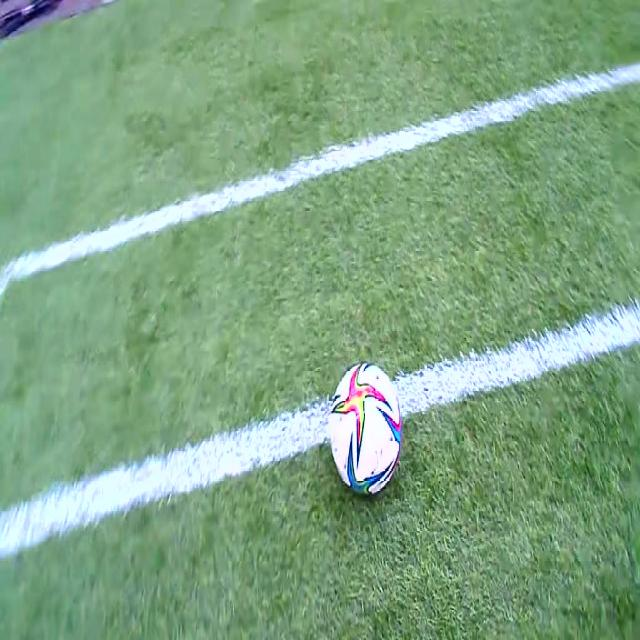ball: (331, 362, 400, 497)
